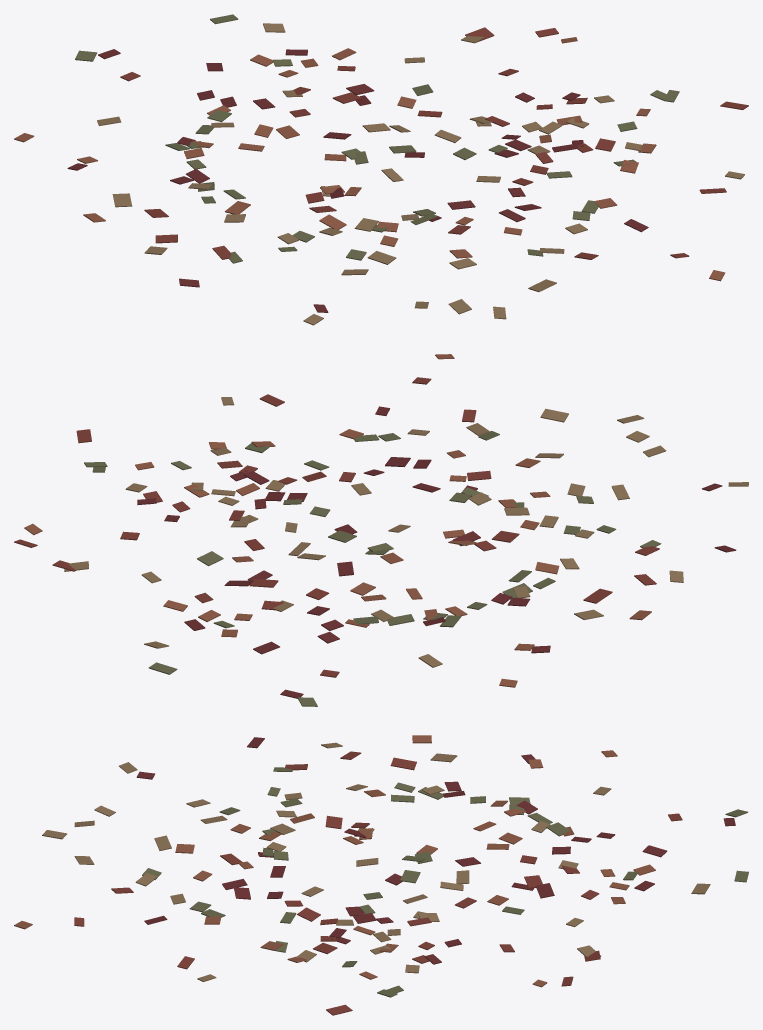
Rendered from frunze_jos.glb.
The picture shows the model from 3 angles, top to bottom: view 1: azimuth 30°, elevation 25°; view 2: azimuth 150°, elevation 25°; view 3: azimuth 270°, elevation 25°; orthographic projection. The views are drawn at different scales.
Visible parts, largest first — view 1: Frunze; view 2: Frunze; view 3: Frunze.
Boxes of the visible parts, <box> form: Frunze: <box>14,14,748,325</box>; Frunze: <box>14,354,748,706</box>; Frunze: <box>14,735,748,1015</box>.
Bounding box in the file's own units: 4.12 × 0.0453 × 4.6.
